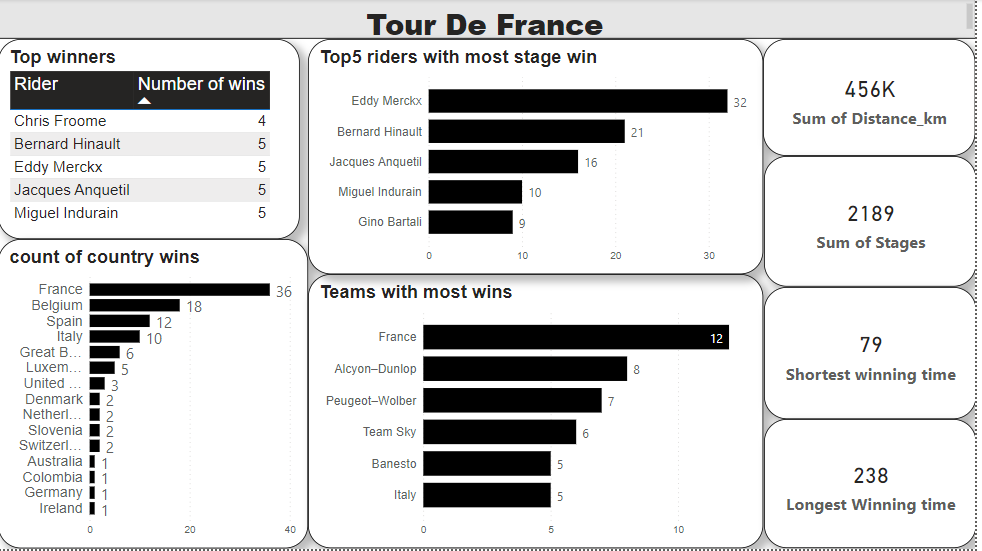

What the dashboard file says about the page in this screenshot:
{"tool":"powerbi","page":{"name":"Page 1","canvas":[1280,720],"ordinal":0},"visuals":[{"type":"tableEx","title":"Top winners","fields":{"Values":["tdf_winners.Rider","tdf_winners.Rider"]},"box":[0,51.8,394.6,262.1],"z":0},{"type":"textbox","box":[0,0,1280.2,51.8],"z":1000},{"type":"clusteredBarChart","title":"count of country wins","fields":{"Category":["tdf_winners.Country"],"Y":["tdf_winners.Country"]},"box":[0,313.9,406.1,404.6],"z":2000},{"type":"clusteredBarChart","title":"Teams with most wins","fields":{"Category":["tdf_winners.Team"],"Y":["tdf_winners.Team"]},"box":[406.1,360,596.2,358.6],"z":3000},{"type":"clusteredBarChart","title":"Top5 riders with most stage win","fields":{"Y":["tdf_winners.Stages Won"],"Category":["tdf_winners.Rider"]},"box":[406.1,51.8,596.2,308.2],"z":4000},{"type":"card","title":"Top teams","fields":{"Values":["tdf_tours.Distance_km"]},"box":[1000.8,51.8,277.9,152.6],"z":5000},{"type":"card","title":"Top teams","fields":{"Values":["tdf_tours.Stages"]},"box":[1002.2,205.9,277.9,171.4],"z":6000},{"type":"card","title":"Top teams","fields":{"Values":["tdf_winners.Finish_time_hour"]},"box":[1002.3,377,277.7,172.9],"z":7000},{"type":"card","title":"Top teams","fields":{"Values":["tdf_winners.Finish_time_hour"]},"box":[1002.3,549.9,277.7,169.2],"z":8000}]}

Visuals, with their boxes in screenshot pixels (x1, y1, x2, y2), scaled from the page's 1280x720 canvas onto the 982x551 screenshot:
"Top winners" tableEx: [0, 40, 303, 240]
textbox: [0, 0, 981, 40]
"count of country wins" clusteredBarChart: [0, 240, 312, 550]
"Teams with most wins" clusteredBarChart: [312, 276, 769, 550]
"Top5 riders with most stage win" clusteredBarChart: [312, 40, 769, 276]
"Top teams" card: [768, 40, 981, 156]
"Top teams" card: [769, 158, 981, 289]
"Top teams" card: [769, 289, 981, 421]
"Top teams" card: [769, 421, 981, 550]
